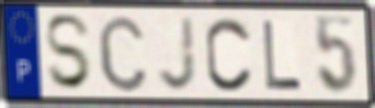5: (310, 14, 360, 98)
C: (95, 11, 150, 94), (204, 14, 255, 94)
J: (156, 14, 199, 94)
L: (261, 18, 304, 92)
S: (43, 12, 95, 93)
